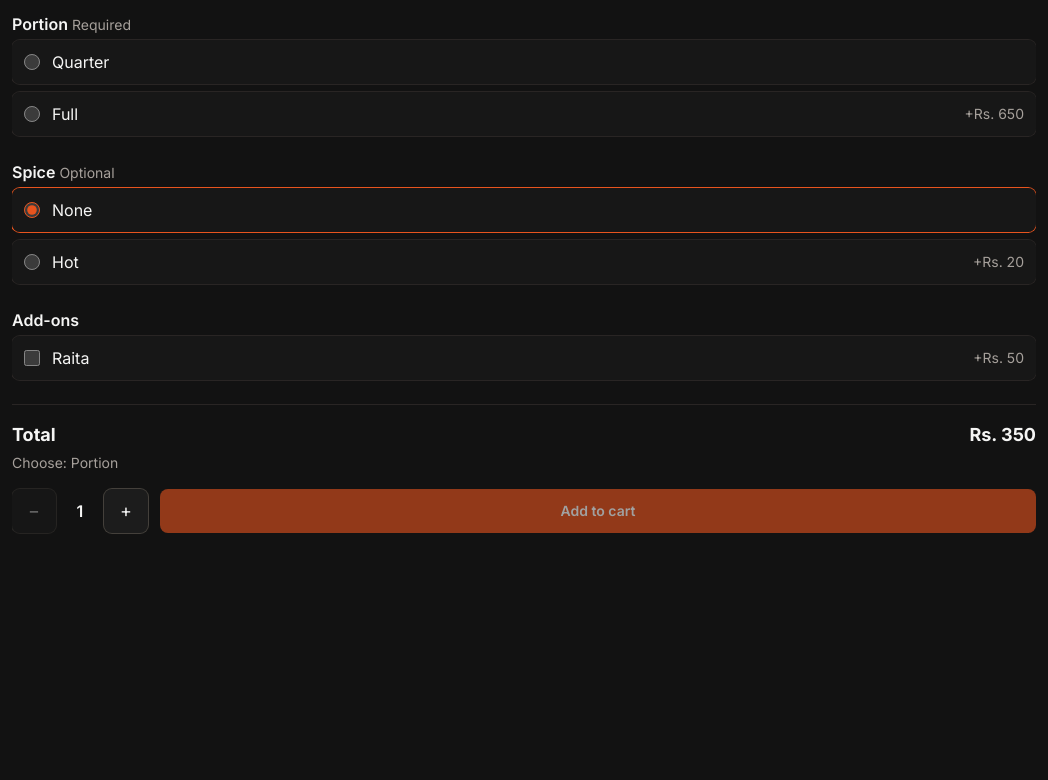
Test: ProductOptions › asks for required choices until they are made
The image size is (1048, 780).
expect the text "Choose: Portion" is shown: met, box [12,454,118,471]
Click the radio button labelled "Quarter" at (32,62), box [24,54,40,70]
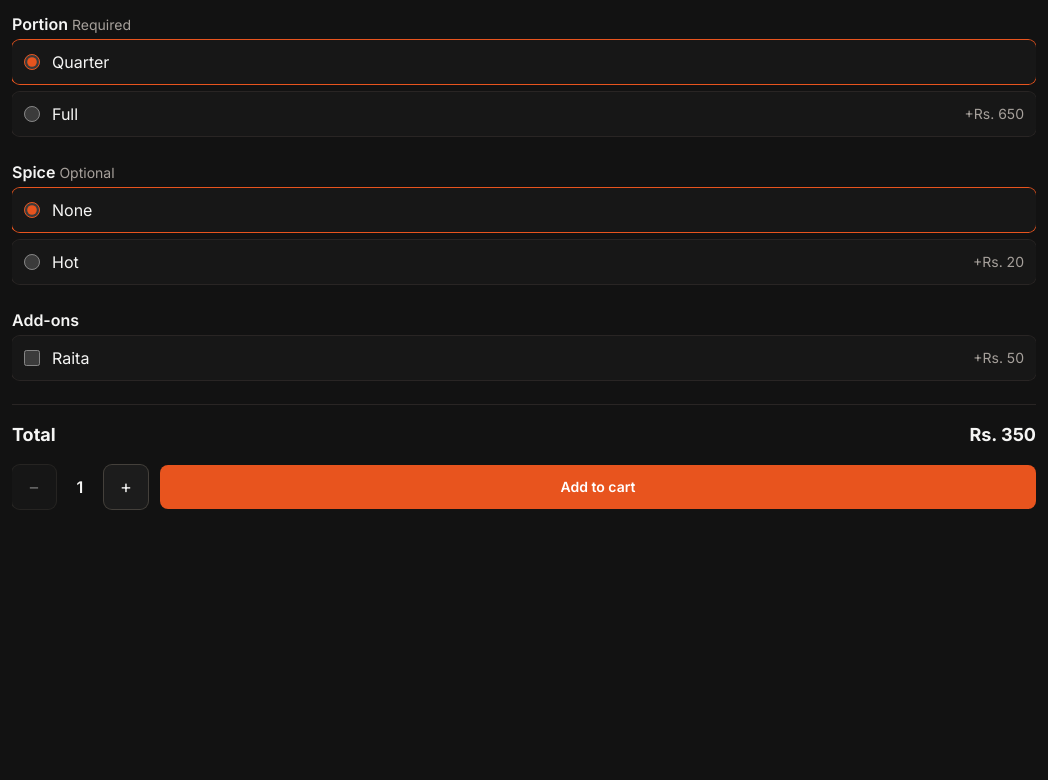
expect the text "Choose:" is gone: met
